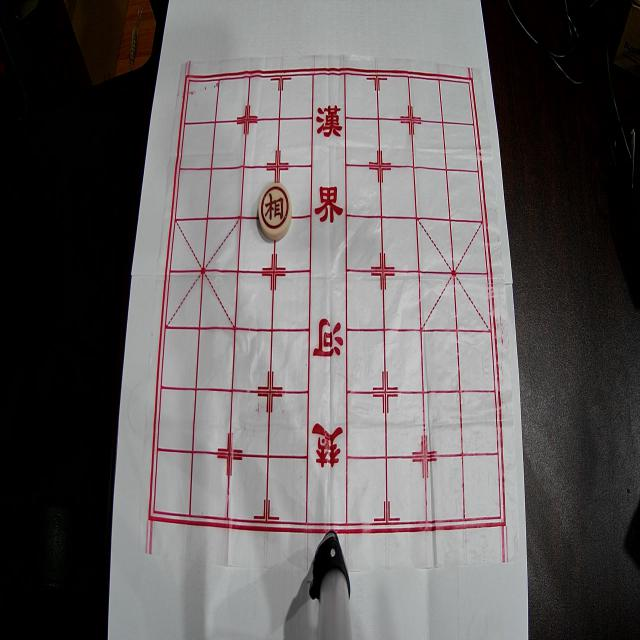red-elephant: (258, 183, 292, 240)
